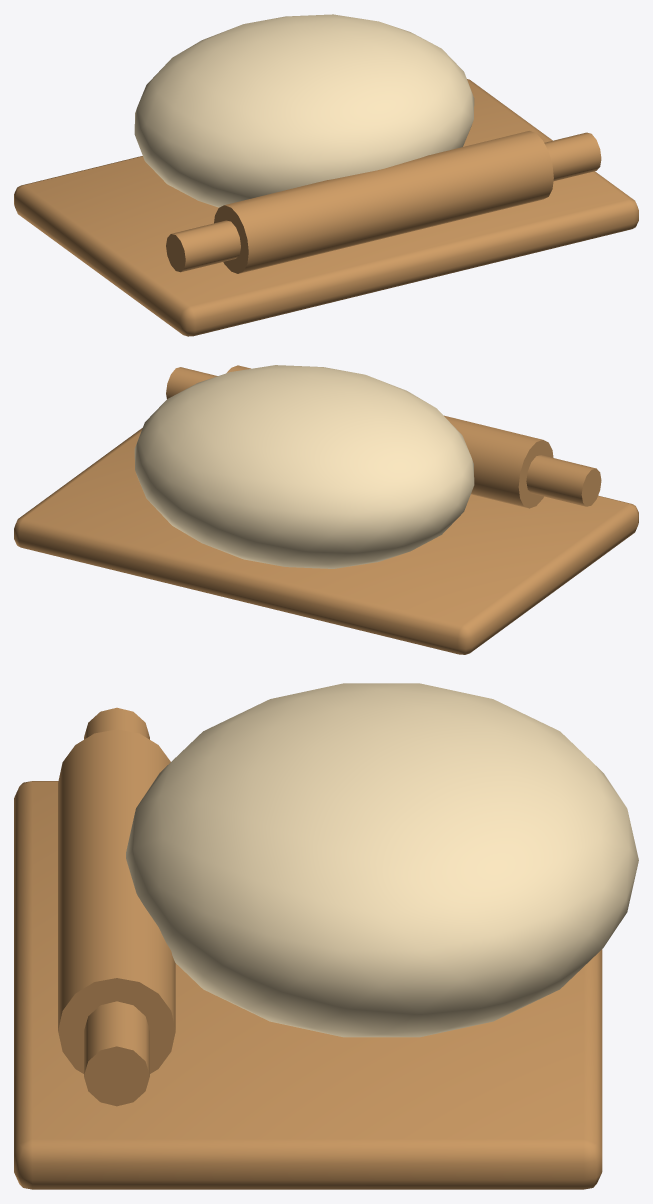
The model's file is Bakery_L3.fbx.
3 renders of one model, top to bottom at view 1: azimuth 30°, elevation 25°; view 2: azimuth 150°, elevation 25°; view 3: azimuth 270°, elevation 25°, orthographic. The views are drawn at different scales.
Visible parts, largest first — view 1: B3_Dough, B3_Board, B3_Pin, B3_PinEnd (×2); view 2: B3_Dough, B3_Board, B3_Pin, B3_PinEnd (×2); view 3: B3_Dough, B3_Board, B3_Pin, B3_PinEnd (×2).
Boxes of the visible parts, x1,y1,x2,y2 form: B3_Dough: [134, 14, 474, 207]; B3_Board: [14, 79, 638, 336]; B3_Pin: [214, 131, 553, 273]; B3_PinEnd (×2): [166, 132, 601, 272]; B3_Dough: [134, 365, 474, 568]; B3_Board: [14, 428, 638, 654]; B3_Pin: [227, 365, 553, 508]; B3_PinEnd (×2): [166, 367, 601, 506]; B3_Dough: [126, 683, 638, 1037]; B3_Board: [14, 781, 602, 1189]; B3_Pin: [58, 729, 175, 1073]; B3_PinEnd (×2): [84, 707, 149, 1106].
Bounding box in the file's own units: 24 × 8.35 × 17.
